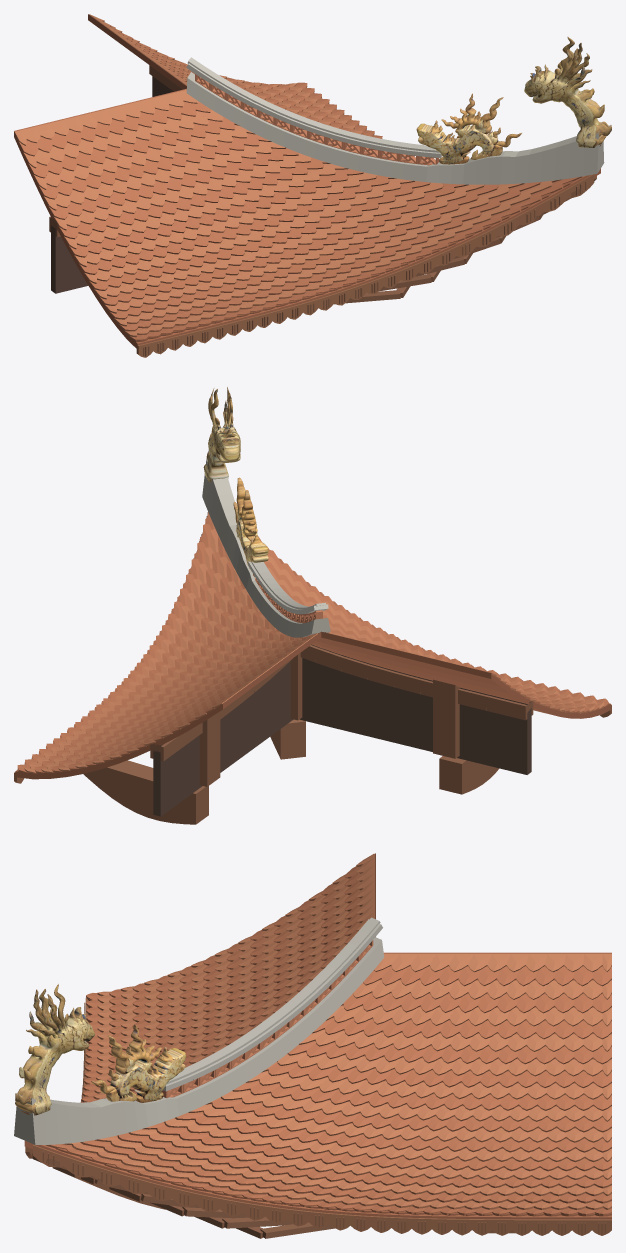
File: mai_dao.glb
3 views of the same model, one above another, from view 1: azimuth 30°, elevation 25°; view 2: azimuth 150°, elevation 25°; view 3: azimuth 270°, elevation 25° (orthographic). The views are drawn at different scales.
Visible parts, largest first — view 1: Tang1_Ngoi_Vay_Ca_SoLe, Tang1_Ngoi_Vay_Ca_Chinh, Tang1_Bo_Quyet_Xi_Mang, Tang1_Diem_Mai_Hoa_Van, Tang1_Cot_Mai_1_4, Rong, Cube, Tang1_Go_Chi_Bo_Quyet, Tang1_Hoa_Van_Thong_Phong, Tang1_Hoa_Van_Noi_Diem_Mai, Tang1_Van_Che, Tang1_Tau_Mai_Xep_Bac (+1 smaller); view 2: Tang1_Van_Che, Tang1_Ngoi_Vay_Ca_Chinh, Tang1_Ngoi_Vay_Ca_SoLe, Tang1_Cot_Mai_1_4, Tang1_Bay_Hien, Tang1_Xa_Do_Mai, Tang1_Tru_Doi, Tang1_Bo_Quyet_Xi_Mang, Rong, Cube, Tang1_Go_Chi_Bo_Quyet, Tang1_Bay_Goc (+1 smaller); view 3: Tang1_Ngoi_Vay_Ca_SoLe, Tang1_Ngoi_Vay_Ca_Chinh, Tang1_Bo_Quyet_Xi_Mang, Tang1_Diem_Mai_Hoa_Van, Rong, Tang1_Go_Chi_Bo_Quyet, Tang1_Cot_Mai_1_4, Cube, Tang1_Tau_Mai_Xep_Bac, Tang1_Hoa_Van_Noi_Diem_Mai, Tang1_Hoa_Van_Thong_Phong, Tang1_Ngoi_Lot_Mui.
Part boxes in pixels (x1,y1,x2,y2): Tang1_Ngoi_Vay_Ca_SoLe: (14, 14, 561, 337); Tang1_Ngoi_Vay_Ca_Chinh: (19, 26, 582, 340); Tang1_Bo_Quyet_Xi_Mang: (186, 72, 604, 184); Tang1_Diem_Mai_Hoa_Van: (136, 174, 596, 357); Tang1_Cot_Mai_1_4: (14, 14, 600, 349); Rong: (524, 37, 611, 147); Cube: (416, 93, 521, 164); Tang1_Go_Chi_Bo_Quyet: (186, 57, 441, 158); Tang1_Hoa_Van_Thong_Phong: (195, 74, 439, 165); Tang1_Hoa_Van_Noi_Diem_Mai: (143, 181, 586, 356); Tang1_Van_Che: (51, 76, 173, 293); Tang1_Tau_Mai_Xep_Bac: (334, 188, 583, 304); Tang1_Van_Che: (153, 644, 531, 816); Tang1_Ngoi_Vay_Ca_Chinh: (17, 512, 608, 773); Tang1_Ngoi_Vay_Ca_SoLe: (24, 529, 604, 773); Tang1_Cot_Mai_1_4: (15, 556, 611, 779); Tang1_Bay_Hien: (83, 756, 499, 824); Tang1_Xa_Do_Mai: (150, 645, 533, 761); Tang1_Tru_Doi: (199, 653, 459, 786); Tang1_Bo_Quyet_Xi_Mang: (202, 459, 330, 637); Rong: (203, 387, 240, 482); Cube: (233, 477, 268, 570); Tang1_Go_Chi_Bo_Quyet: (248, 561, 328, 614); Tang1_Bay_Goc: (270, 719, 305, 759); Tang1_Ngoi_Vay_Ca_SoLe: (63, 853, 611, 1209); Tang1_Ngoi_Vay_Ca_Chinh: (46, 866, 611, 1215); Tang1_Bo_Quyet_Xi_Mang: (14, 937, 384, 1144); Tang1_Diem_Mai_Hoa_Van: (25, 997, 611, 1235); Rong: (15, 984, 94, 1115); Tang1_Go_Chi_Bo_Quyet: (163, 917, 382, 1091); Tang1_Cot_Mai_1_4: (24, 853, 611, 1219); Cube: (91, 1024, 185, 1102); Tang1_Tau_Mai_Xep_Bac: (32, 1153, 334, 1238); Tang1_Hoa_Van_Noi_Diem_Mai: (42, 1002, 605, 1234); Tang1_Hoa_Van_Thong_Phong: (162, 940, 373, 1098); Tang1_Ngoi_Lot_Mui: (55, 998, 611, 1216).
Bounding box in the file's own units: 4.57 × 2.63 × 4.56.
13 materials, 4 textured.
